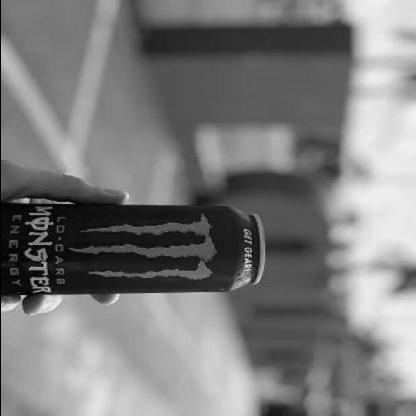alumunium_can: (1, 202, 265, 298)
